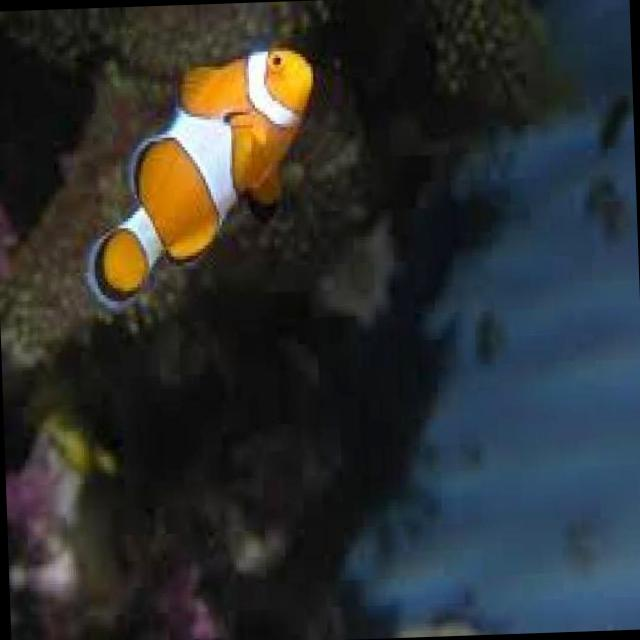ClownFish: (84, 44, 321, 309)
